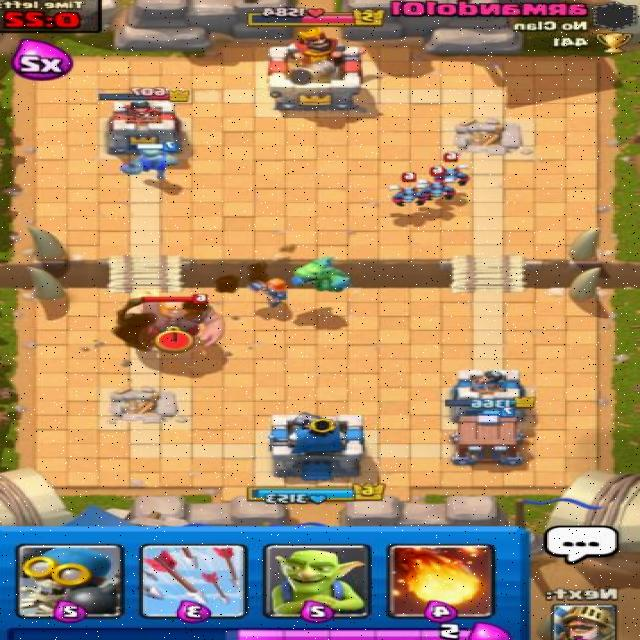Enemy-Giant: (120, 292, 229, 351)
Enemy-Minion: (386, 171, 433, 208), (433, 150, 472, 187), (420, 165, 458, 200)
Player-BabyDragon: (286, 257, 356, 295)
Player-Brawler: (116, 139, 182, 182)
Player-GoblinCage: (444, 410, 530, 467)
Player-Valkyrie: (252, 276, 293, 308)
